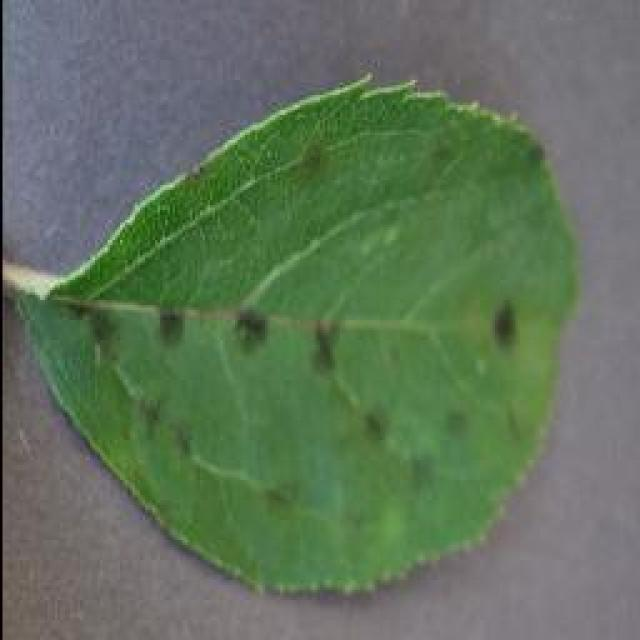apple scab disease: (5, 70, 580, 598)
